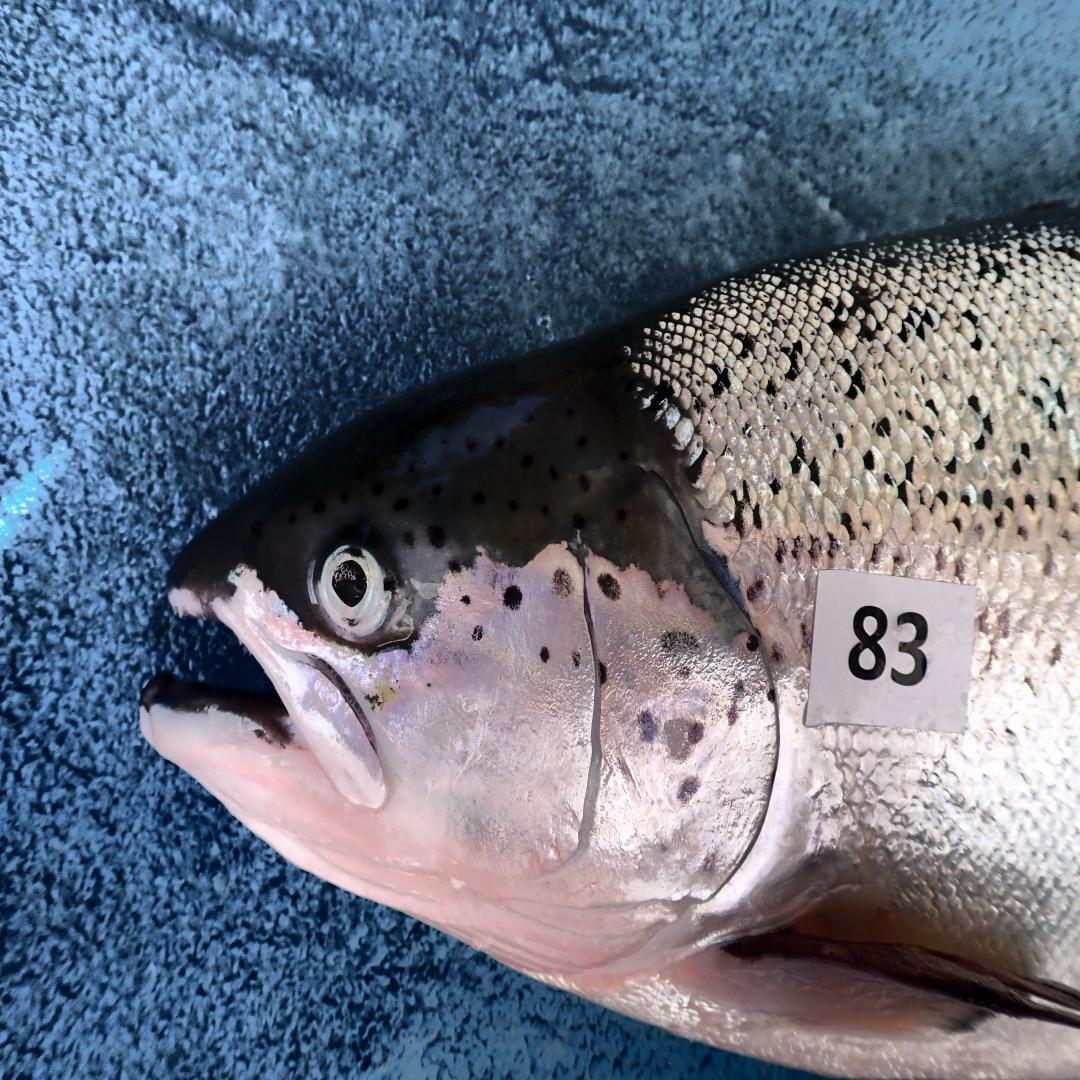spot: (660, 630, 698, 655), (637, 709, 658, 742), (677, 776, 700, 804), (553, 568, 574, 596), (597, 574, 620, 599), (502, 585, 523, 610), (690, 723, 705, 745), (728, 705, 738, 726), (746, 636, 759, 652), (599, 660, 607, 686), (472, 624, 483, 641), (540, 647, 549, 664), (572, 650, 580, 667), (679, 666, 690, 677), (735, 681, 745, 693), (768, 689, 776, 703), (461, 596, 470, 605)
